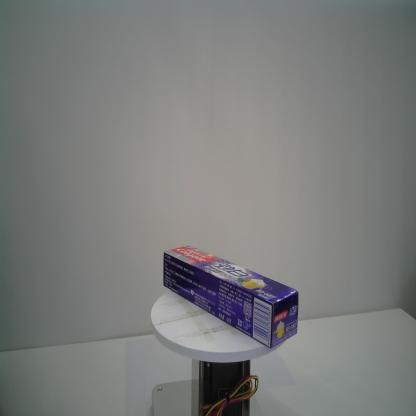Personal Hygiene: (161, 245, 299, 349)
